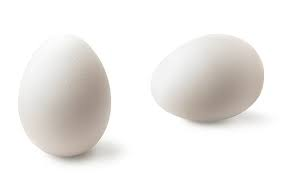eggs: (21, 23, 118, 156), (150, 28, 270, 125)
